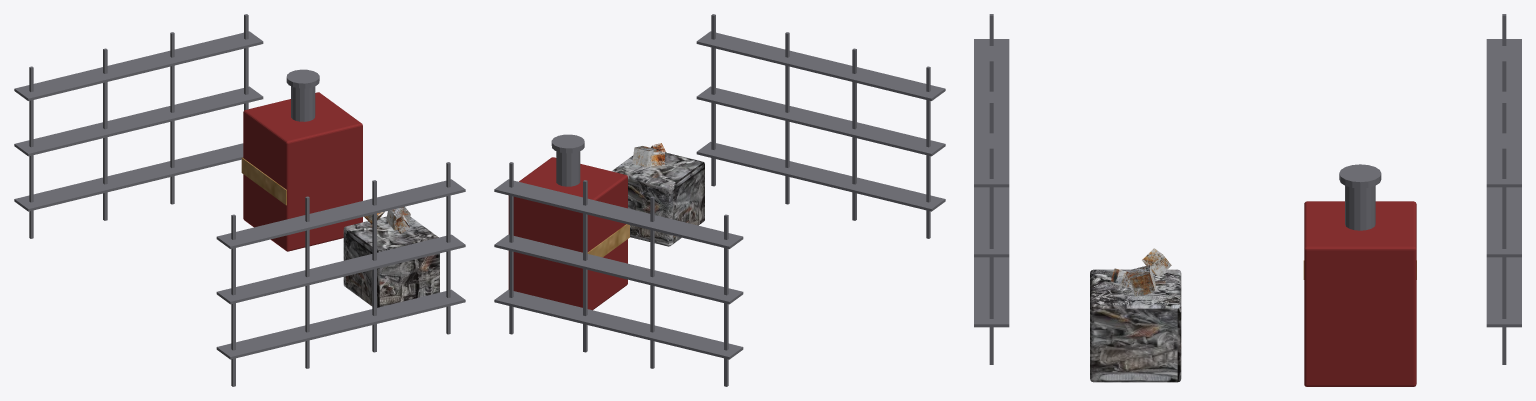
The model's file is RECICLAJE_METAL.fbx.
3 renders of one model, left to right at view 1: azimuth 30°, elevation 25°; view 2: azimuth 150°, elevation 25°; view 3: azimuth 270°, elevation 25°, orthographic. The views are drawn at different scales.
Visible parts, largest first — view 1: Rec_Compactadora, Rec_CuboChatarra, Rec_Estante_S_1, Rec_Estante_N_2, Rec_Estante_N_3, Rec_Estante_S_3, Rec_Estante_S_2, Rec_Estante_N_1, Rec_Compactadora_Piston, Rec_Compactadora_Franja, Rec_EstantePoste_N_2, Rec_EstantePoste_N_1 (+7 smaller); view 2: Rec_Compactadora, Rec_CuboChatarra, Rec_Estante_S_1, Rec_Estante_N_1, Rec_Estante_S_2, Rec_Estante_S_3, Rec_Estante_N_3, Rec_Estante_N_2, Rec_Compactadora_Piston, Rec_EstantePoste_S_2, Rec_EstantePoste_S_1, Rec_EstantePoste_N_2 (+8 smaller); view 3: Rec_Compactadora, Rec_CuboChatarra, Rec_Estante_N_3, Rec_Estante_S_3, Rec_Estante_N_1, Rec_Estante_N_2, Rec_Estante_S_1, Rec_Estante_S_2, Rec_Compactadora_Piston, Rec_EstantePoste_N_4, Rec_EstantePoste_S_4, Rec_Compactadora_PistonTapa (+2 smaller).
Part boxes in pixels (x1,y1,x2,y2): Rec_Compactadora: [243, 92, 362, 251]; Rec_CuboChatarra: [343, 216, 439, 307]; Rec_Estante_S_1: [216, 289, 465, 359]; Rec_Estante_N_2: [14, 86, 263, 156]; Rec_Estante_N_3: [14, 31, 263, 100]; Rec_Estante_S_3: [216, 179, 465, 248]; Rec_Estante_S_2: [216, 234, 465, 304]; Rec_Estante_N_1: [14, 143, 243, 211]; Rec_Compactadora_Piston: [291, 86, 315, 121]; Rec_Compactadora_Franja: [241, 157, 286, 205]; Rec_EstantePoste_N_2: [103, 48, 107, 220]; Rec_EstantePoste_N_1: [29, 66, 33, 238]; Rec_Compactadora: [508, 157, 627, 310]; Rec_CuboChatarra: [612, 152, 704, 246]; Rec_Estante_S_1: [696, 141, 945, 211]; Rec_Estante_N_1: [494, 289, 743, 359]; Rec_Estante_S_2: [696, 86, 945, 156]; Rec_Estante_S_3: [696, 31, 945, 100]; Rec_Estante_N_3: [494, 179, 743, 248]; Rec_Estante_N_2: [494, 234, 743, 304]; Rec_Compactadora_Piston: [556, 151, 580, 186]; Rec_EstantePoste_S_2: [852, 48, 856, 220]; Rec_EstantePoste_S_1: [926, 66, 930, 238]; Rec_EstantePoste_N_2: [650, 196, 654, 368]; Rec_Compactadora: [1304, 201, 1416, 386]; Rec_CuboChatarra: [1090, 269, 1181, 382]; Rec_Estante_N_3: [1486, 39, 1521, 187]; Rec_Estante_S_3: [974, 39, 1009, 187]; Rec_Estante_N_1: [1486, 257, 1521, 327]; Rec_Estante_N_2: [1486, 187, 1521, 257]; Rec_Estante_S_1: [974, 257, 1009, 327]; Rec_Estante_S_2: [974, 187, 1009, 257]; Rec_Compactadora_Piston: [1345, 186, 1375, 230]; Rec_EstantePoste_N_4: [1502, 147, 1506, 364]; Rec_EstantePoste_S_4: [989, 147, 993, 364]; Rec_Compactadora_PistonTapa: [1339, 164, 1381, 188].
Size of the model in its own units: 549 by 340 by 780.
5 materials, 5 textured.
